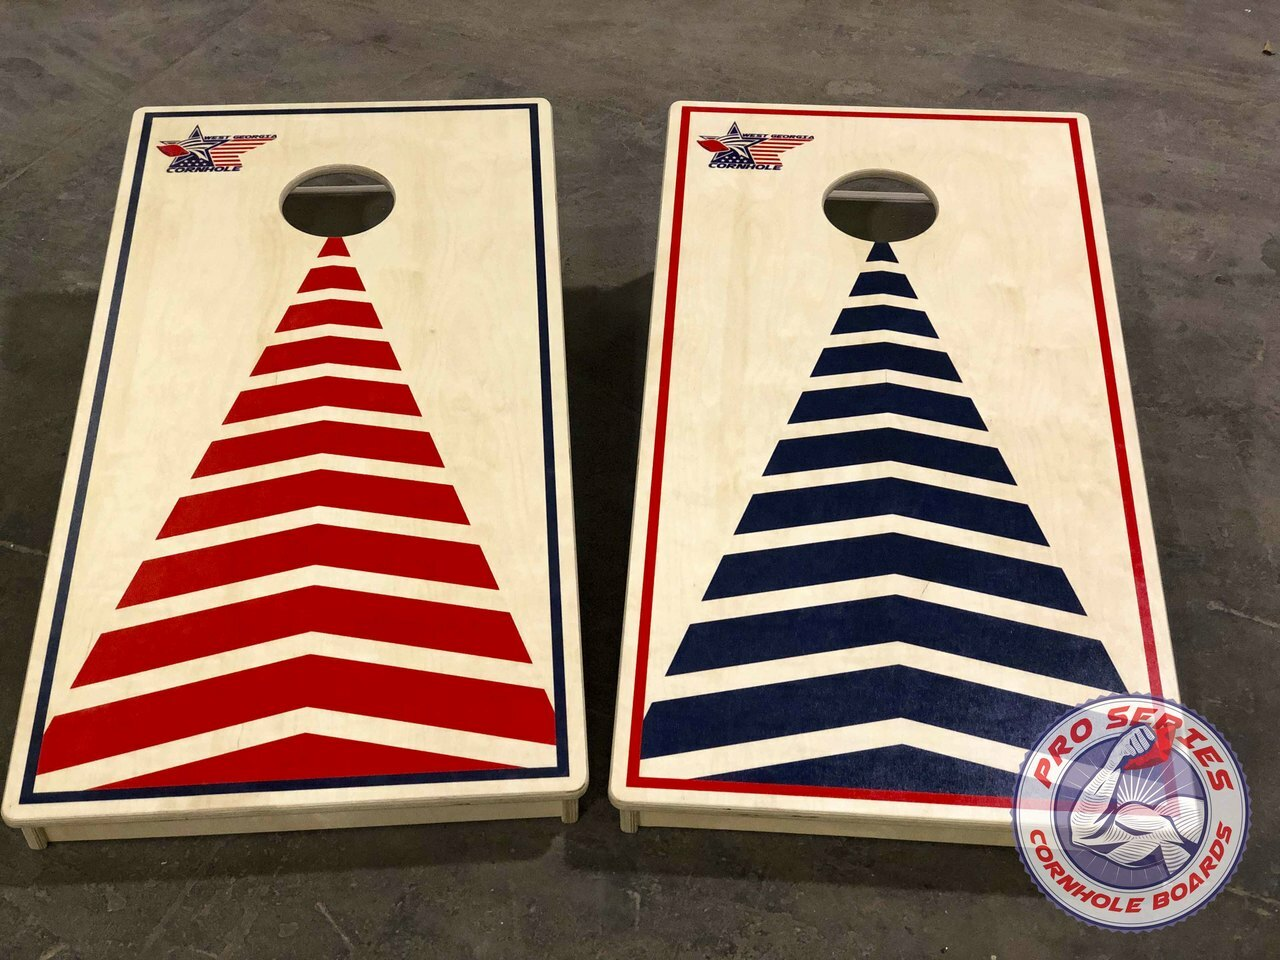Cornhole Board: (607, 92, 1209, 830), (9, 99, 585, 821)
